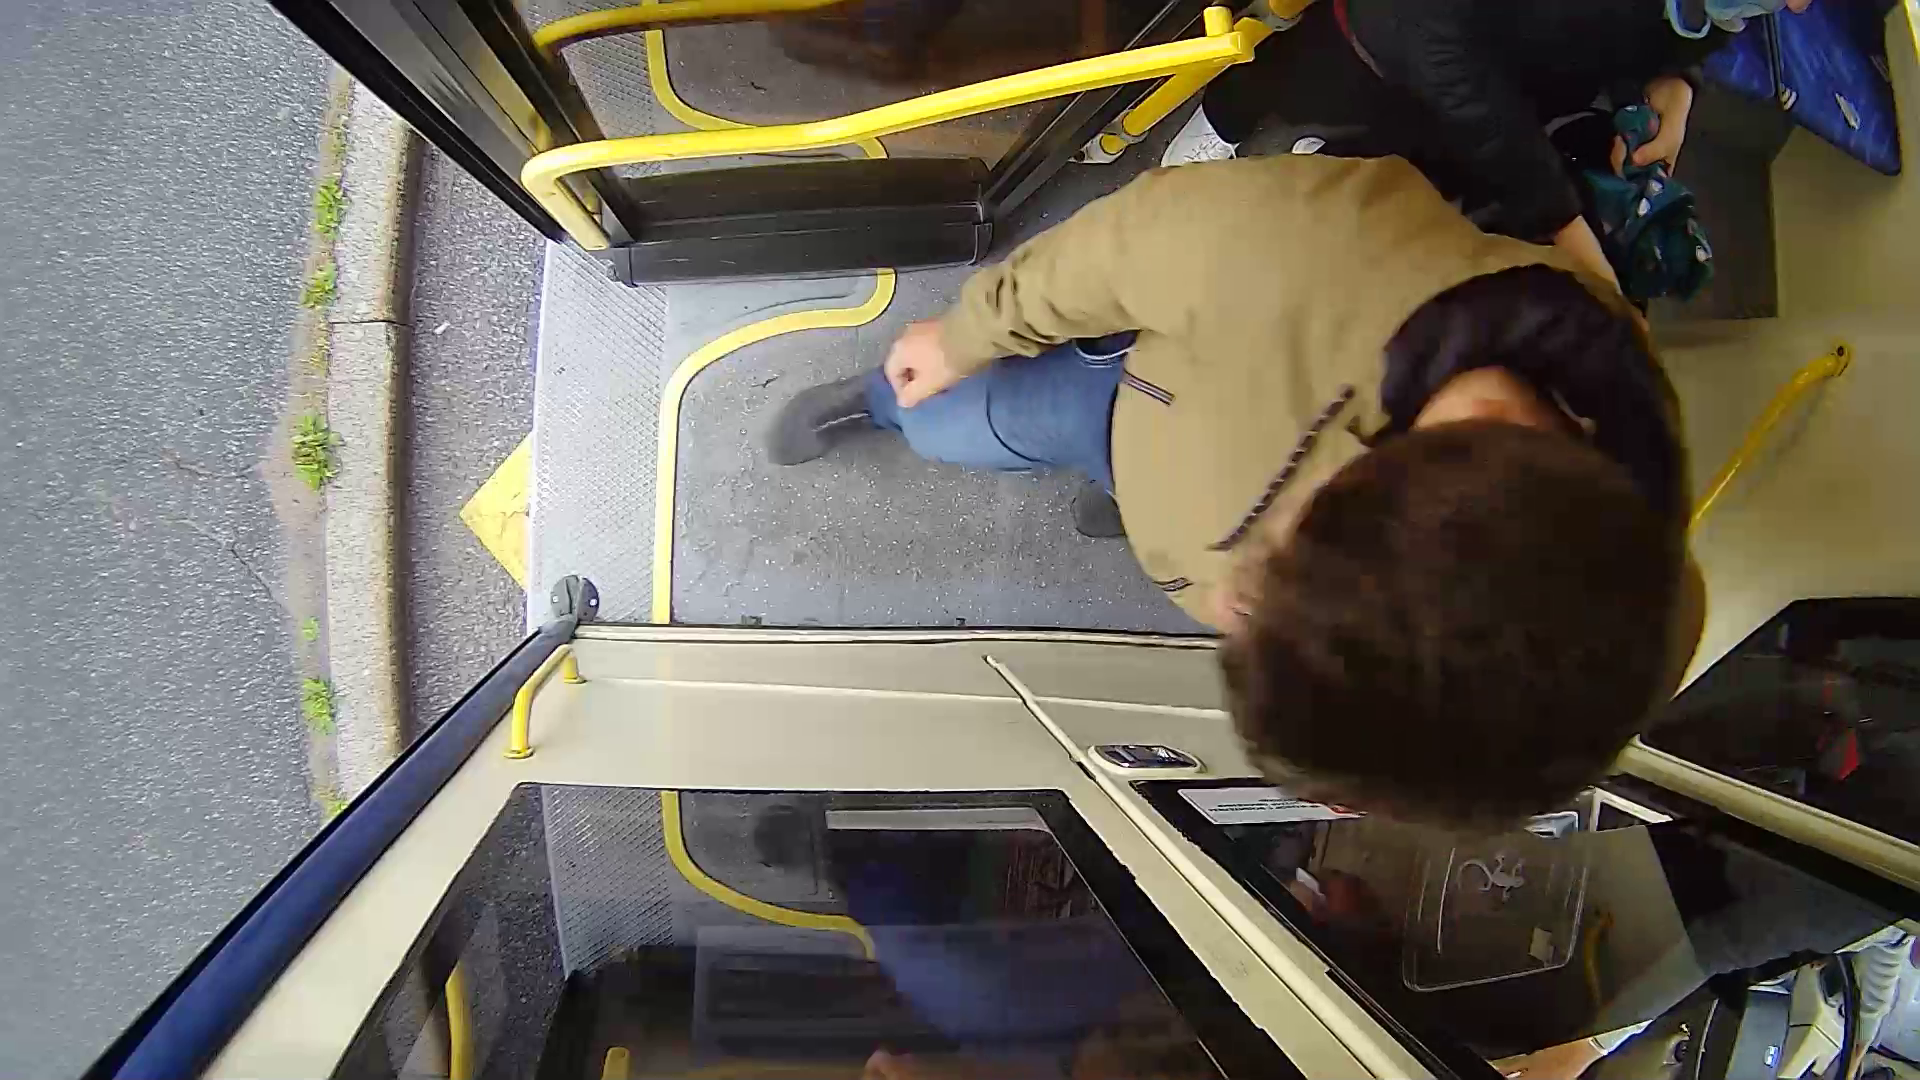person: (846, 122, 1742, 819)
